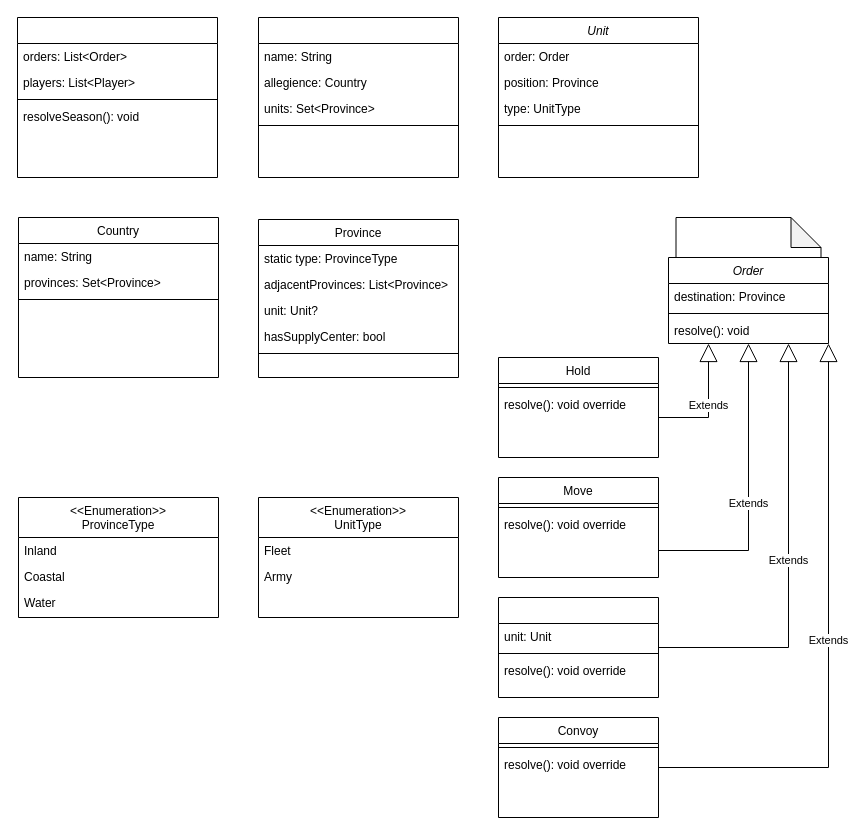
Some shapes in this 866 by 835 pixel diagram are drawn without their labels. The shapes that lost their labels are listed below. From the top down, each one's box as (x1, y1, x2, y2) in pixels, then its label:
(16, 16, 218, 178): GameMaster
(258, 16, 458, 178): Player
(675, 216, 821, 258): Destination in set of adjacentProvinces
(498, 596, 658, 698): Support
